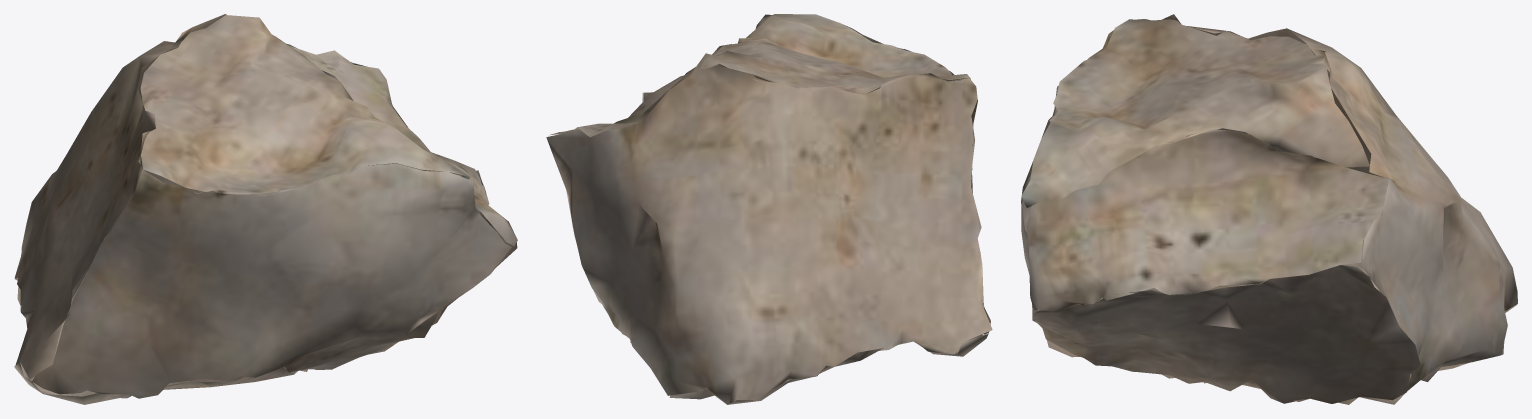
File: namaqualand_stones_01_v5.glb
3 views of the same model, side by side, from view 1: azimuth 30°, elevation 25°; view 2: azimuth 150°, elevation 25°; view 3: azimuth 270°, elevation 25° (orthographic). The views are drawn at different scales.
Parts seen in each view (by area): view 1: lod0; view 2: lod0; view 3: lod0.
Part boxes in pixels (box(x1,y1,x2,y2)): lod0: box(14, 14, 517, 404); lod0: box(546, 14, 992, 404); lod0: box(1021, 14, 1517, 404).
Size of what is drawn, in the model's own units: 0.1124 by 0.0763 by 0.1117.
Materials: 1 (1 with a texture image).
